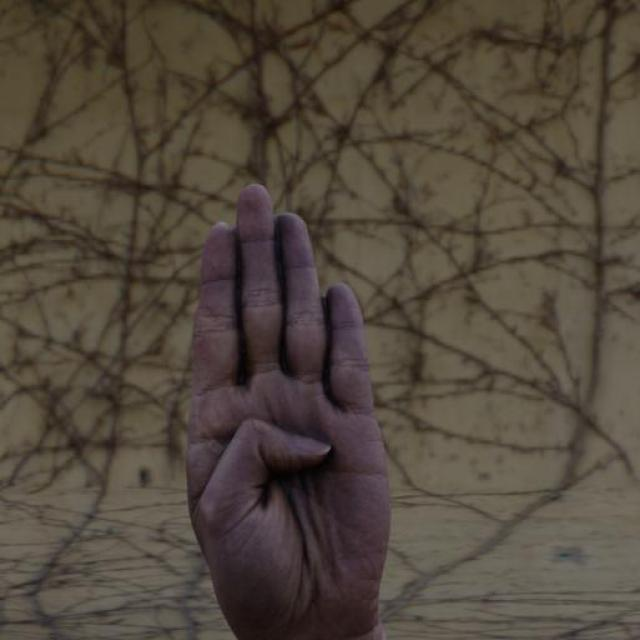B: (185, 170, 392, 638)
